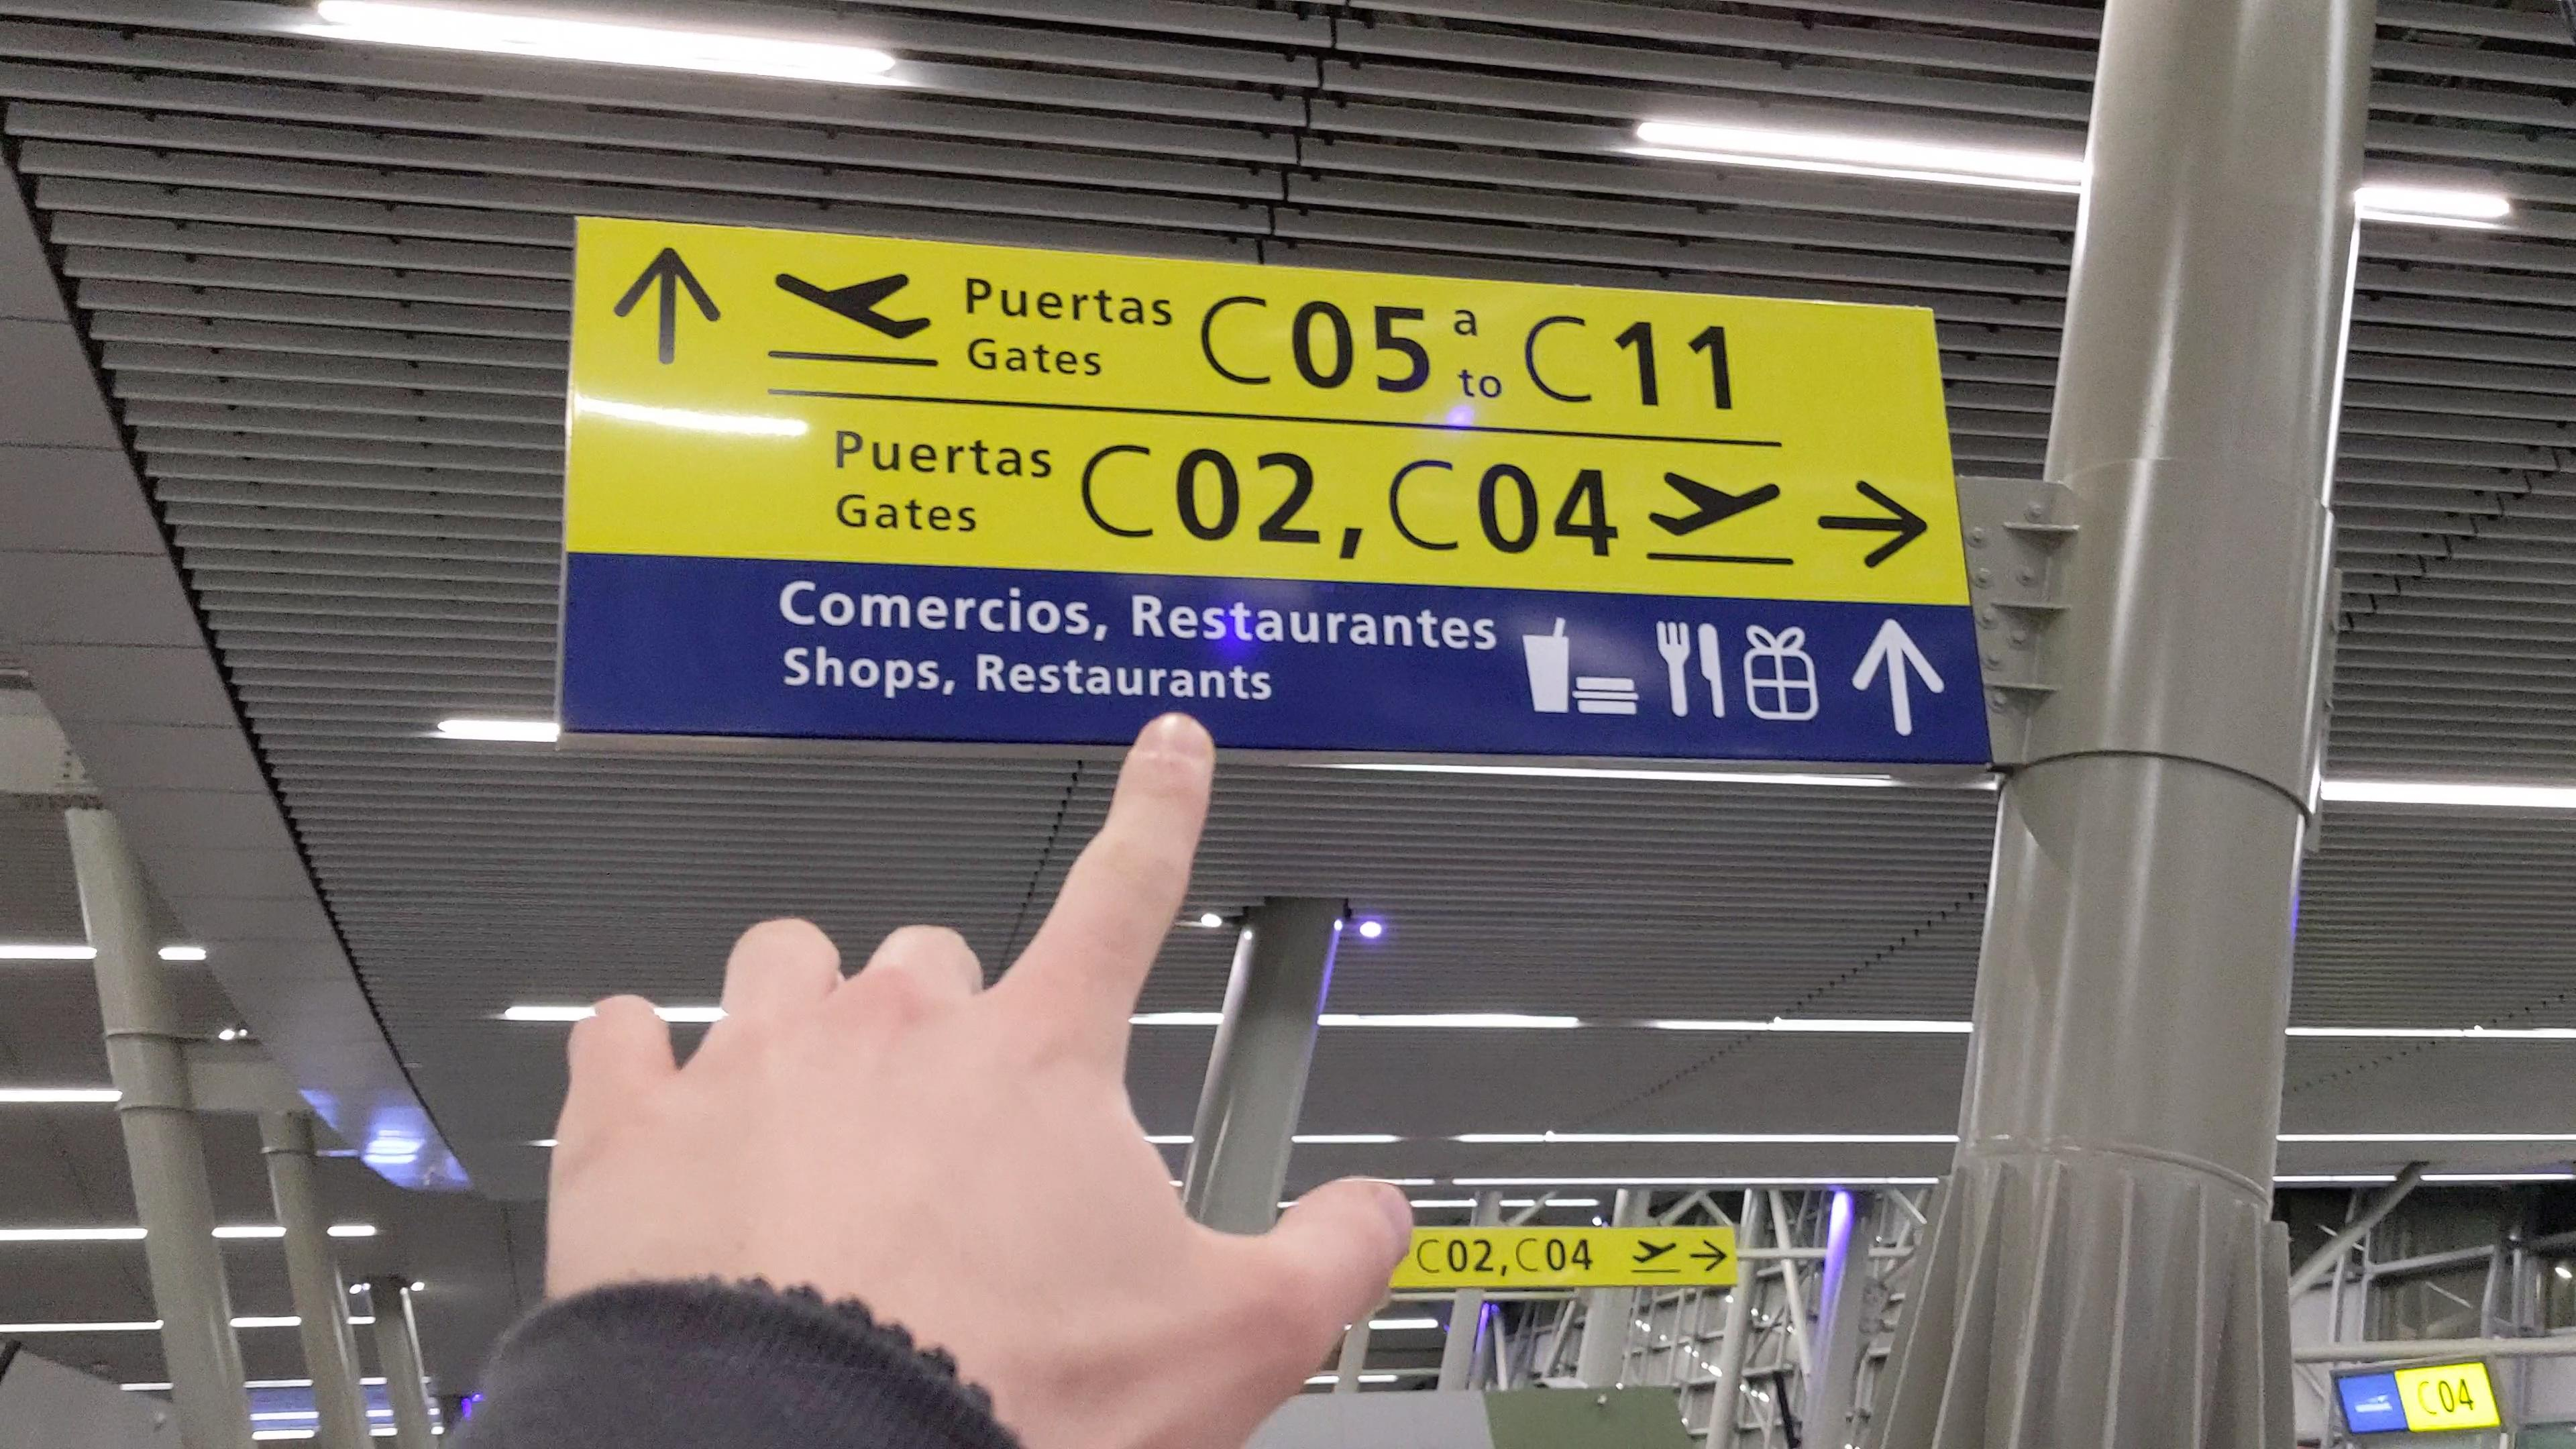airplane symbol: (773, 265, 934, 343), (1647, 467, 1785, 540), (1631, 1233, 1684, 1267)
restaurants: (1649, 617, 1734, 720)
thin right arrow: (1810, 474, 1932, 573)
thin up arrow: (612, 242, 724, 366), (1852, 614, 1948, 740)
